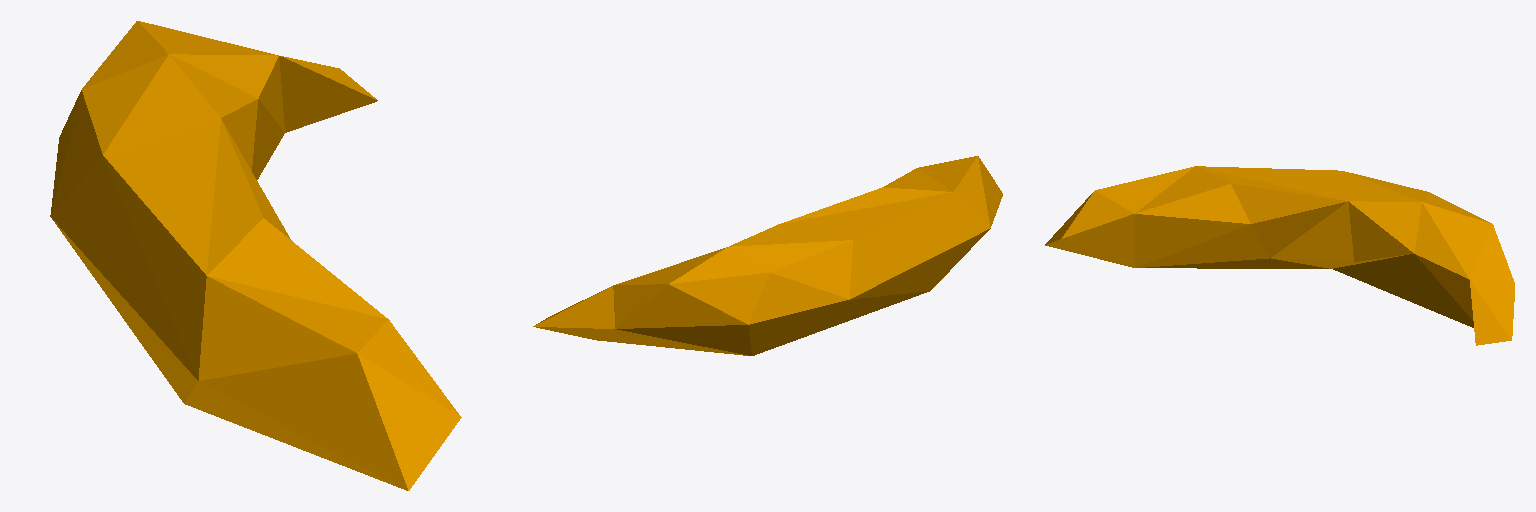
URDF robot description (011_banana):
<?xml version="1.0" encoding="UTF-8"?>
<robot name="011_banana">
	<link name="base">
		<collision>
			<geometry>
				<mesh filename="../vhacd/011_banana_vhacd.obj" scale="1.0 1.0 1.0"/>
			</geometry>
			<origin xyz="0 0 0"/>
			<contact_coefficients mu="0.24" />
		</collision>
		<visual>
			<geometry>
				<mesh filename="../vhacd/011_banana_vhacd.obj" scale="1.0 1.0 1.0"/>
			</geometry>
			<origin xyz="0 0 0"/>
		</visual>
		<inertial>
			<mass value="0.2"/>
			<inertia ixx="0.0004546861885045654" ixy="-0.00013532646462137405" ixz="3.830990296798498e-06" iyy="9.978048764326839e-05" iyz="-1.951314983181539e-06" izz="0.0005199969464690479" />
			<origin xyz="-0.009589697228139873 0.004125403664727114 0.016979803884432286"/>
		</inertial>
	</link>
</robot>

--- What the picture shows (computed from the rendered views, not written in the file) ---
3 views of the same robot in one strip: view 1: azimuth 30°, elevation 25°; view 2: azimuth 150°, elevation 25°; view 3: azimuth 270°, elevation 25° (orthographic).
Model 011_banana with 1 links and 0 joints (none), rooted at base, posed all joints at 0.
Visible links, largest first — view 1: base; view 2: base; view 3: base.
Boxes of the visible links, x1,y1,x2,y2 form: base: [50, 21, 461, 490]; base: [533, 156, 1002, 355]; base: [1045, 166, 1514, 345].
Bounding box of the posed robot: 0.1129 × 0.1849 × 0.0389 m (x, y, z).
1 mesh visuals loaded from 1 distinct referenced files (1 OBJ).